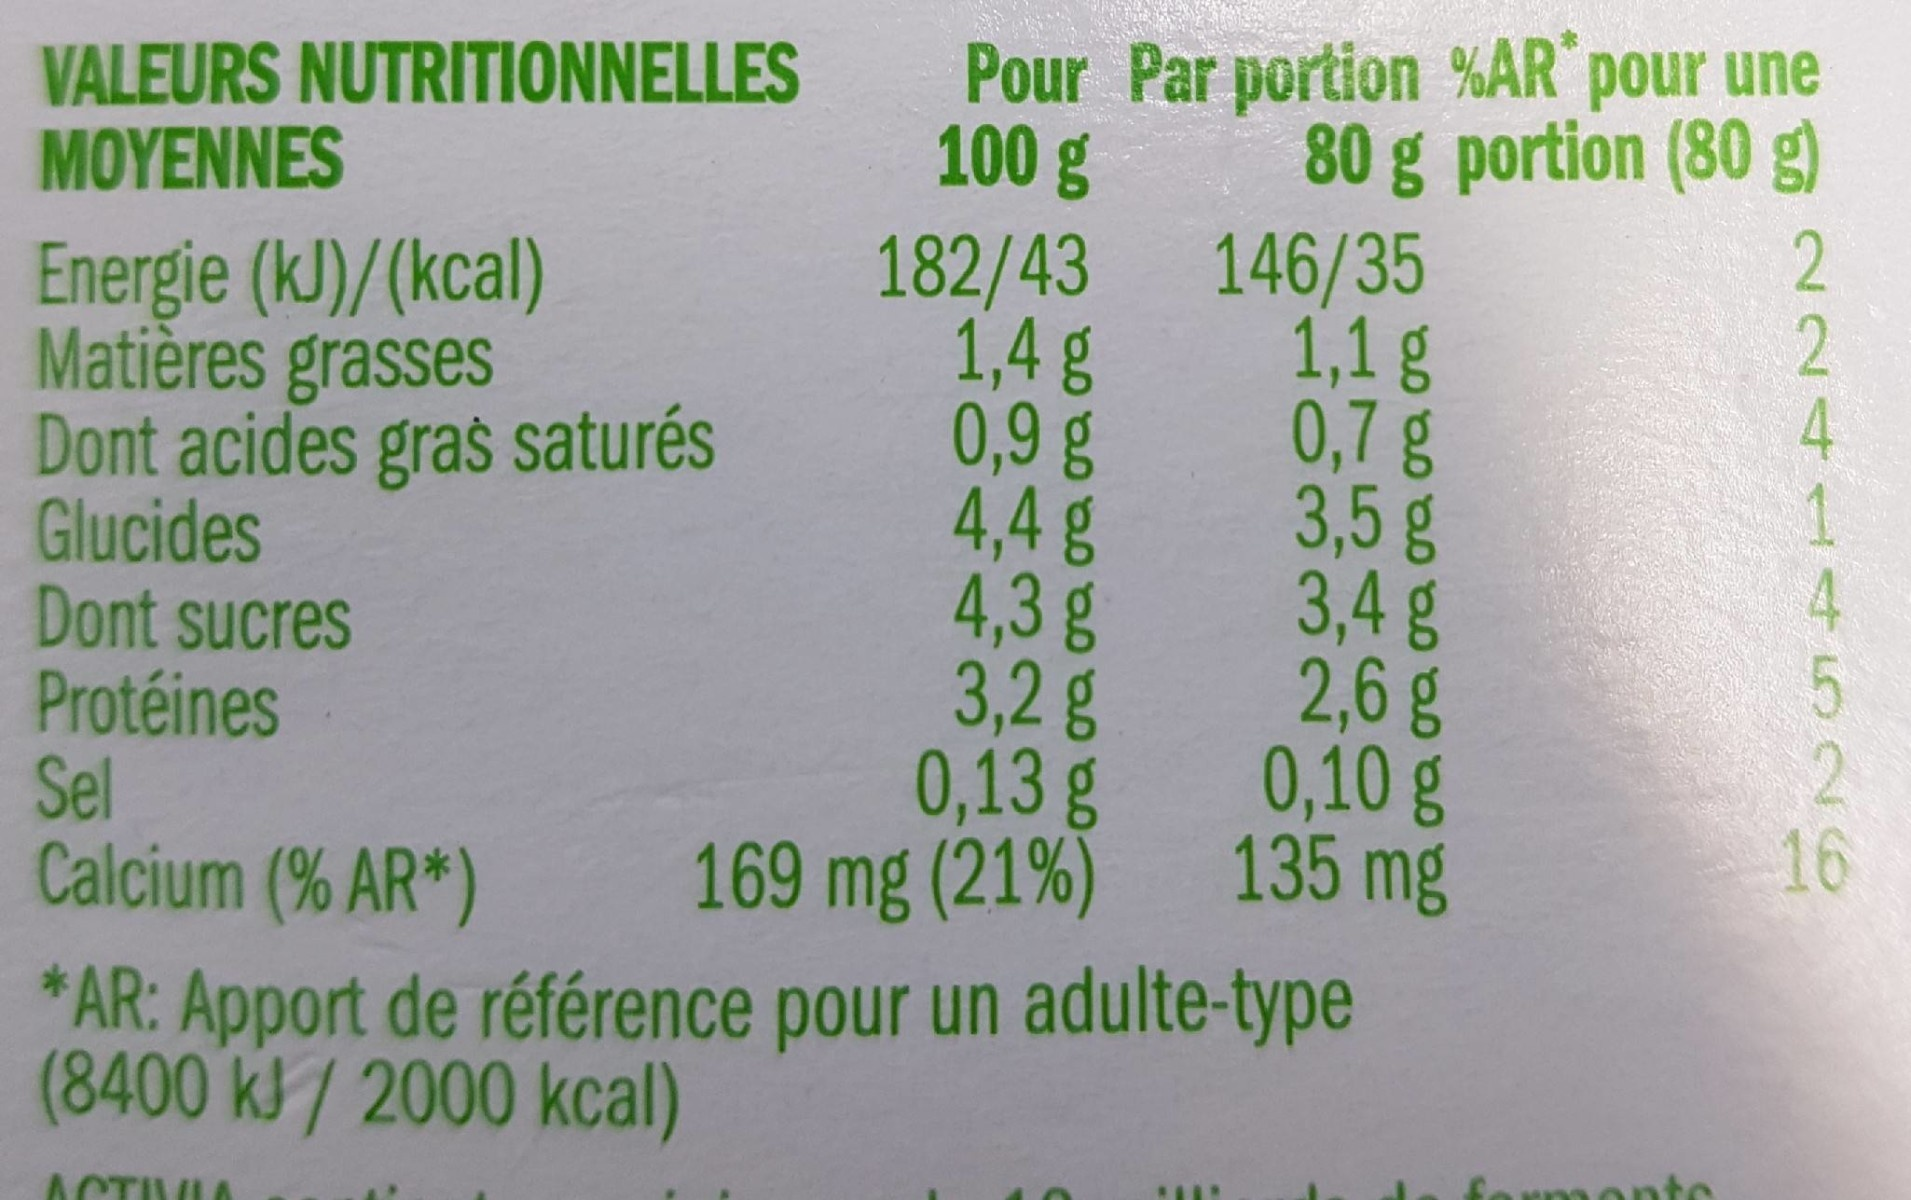column: (32, 33, 806, 917), (1454, 29, 1845, 914), (1130, 41, 1438, 918), (828, 41, 1093, 922)
table: (18, 24, 1865, 929)
